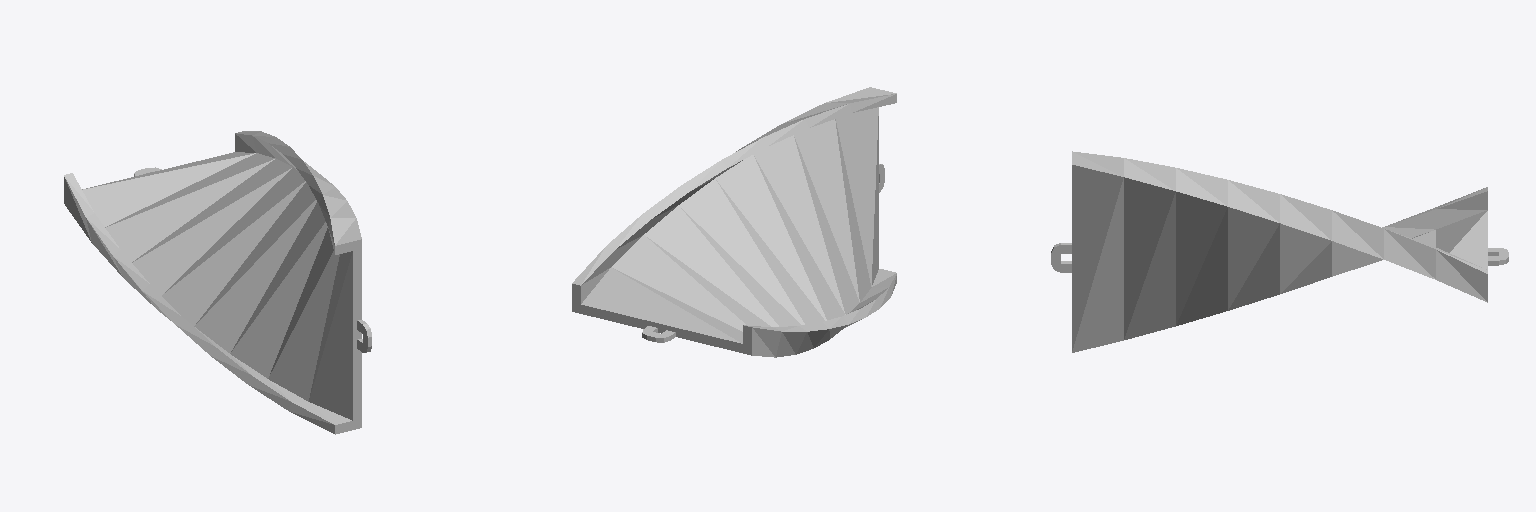
Rendered from track-striped-wide-straight-skew-right-side.obj.
3 views of the same model, side by side, from view 1: azimuth 30°, elevation 25°; view 2: azimuth 150°, elevation 25°; view 3: azimuth 270°, elevation 25° (orthographic).
Parts seen in each view (by area): view 1: track-striped-wide-straight-skew-right-side; view 2: track-striped-wide-straight-skew-right-side; view 3: track-striped-wide-straight-skew-right-side.
Part boxes in pixels (x1,y1,x2,y2): track-striped-wide-straight-skew-right-side: (64,131,371,434); track-striped-wide-straight-skew-right-side: (572,87,896,357); track-striped-wide-straight-skew-right-side: (1051,151,1508,352).
Size of the model in its own units: 2.04 by 2.04 by 4.4.